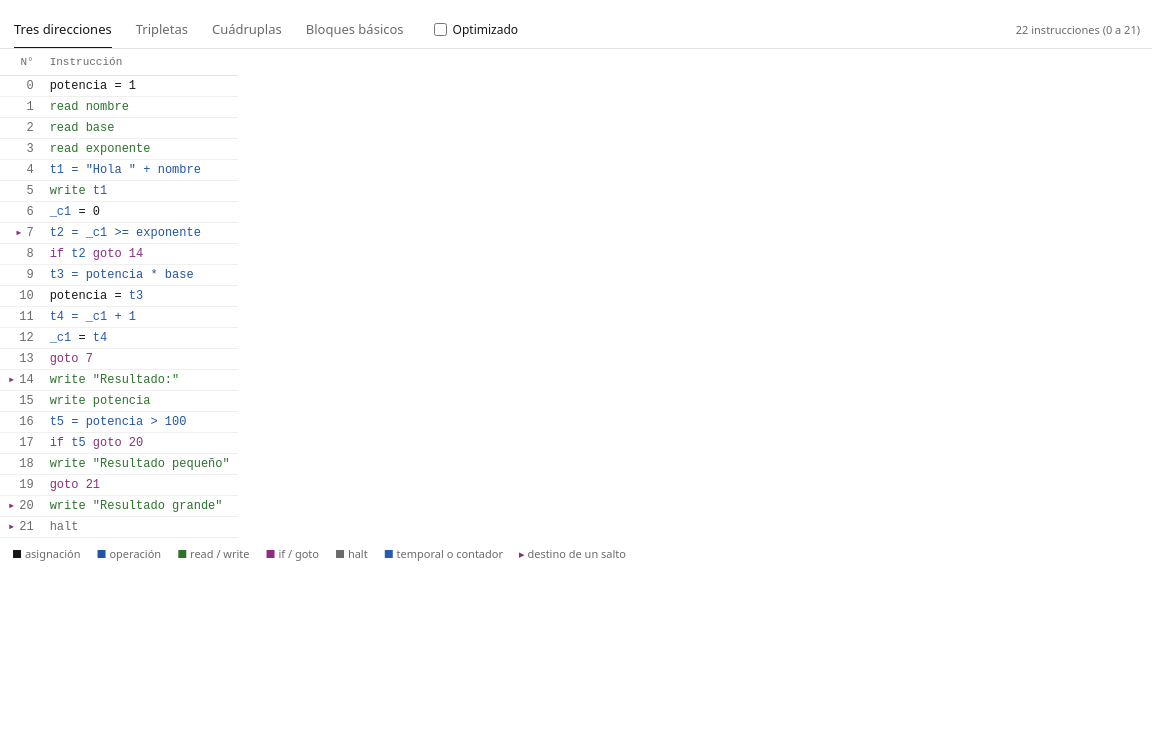
Test: código intermedio optimizado › las tripletas y cuádruplas también cambian con la casilla
Click the tab "Cuádruplas": (247, 30) x1=202 y1=12 x2=292 y2=48
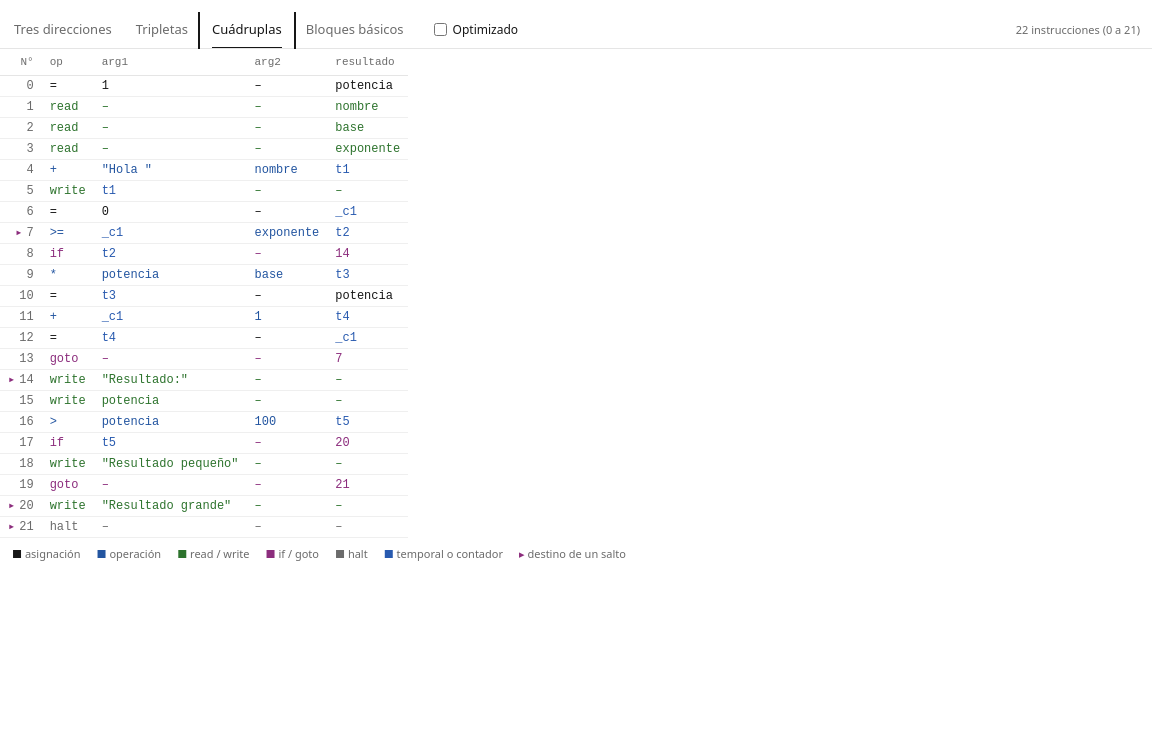
Click the checkbox labelled "Optimizado": (440, 30) x1=434 y1=23 x2=447 y2=36
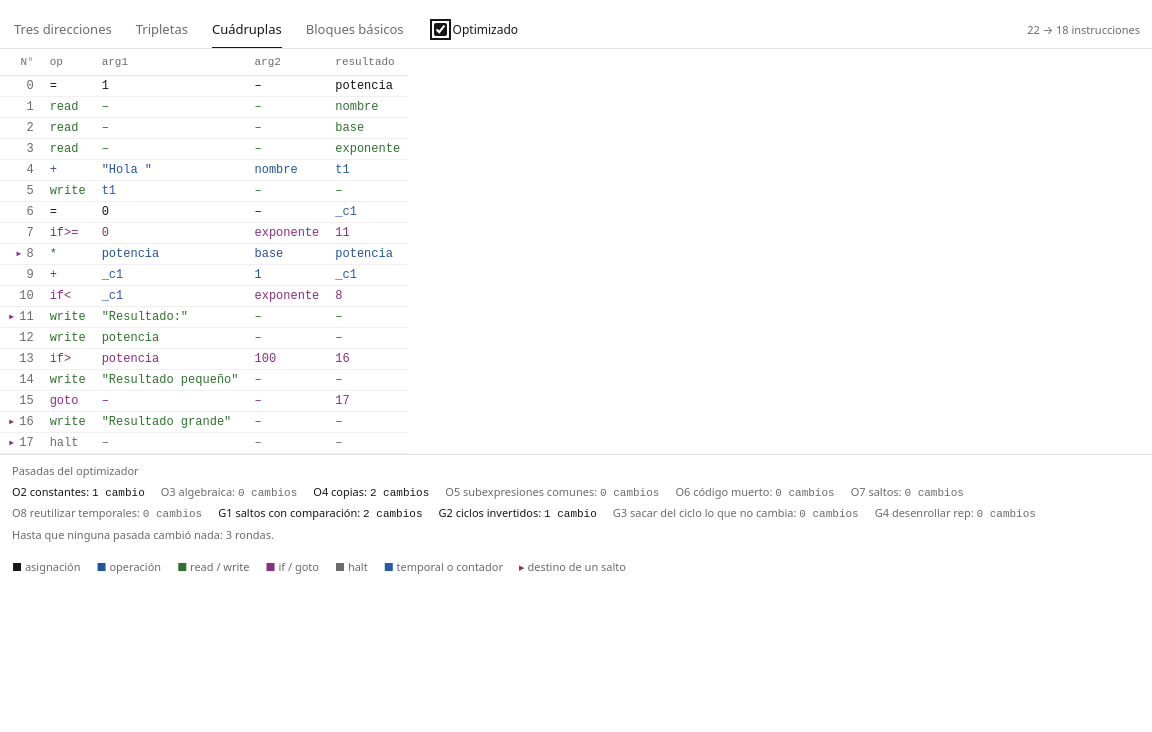
Result: the number of rows is 19
Click the tab "Tripletas": (162, 30) x1=126 y1=12 x2=198 y2=48
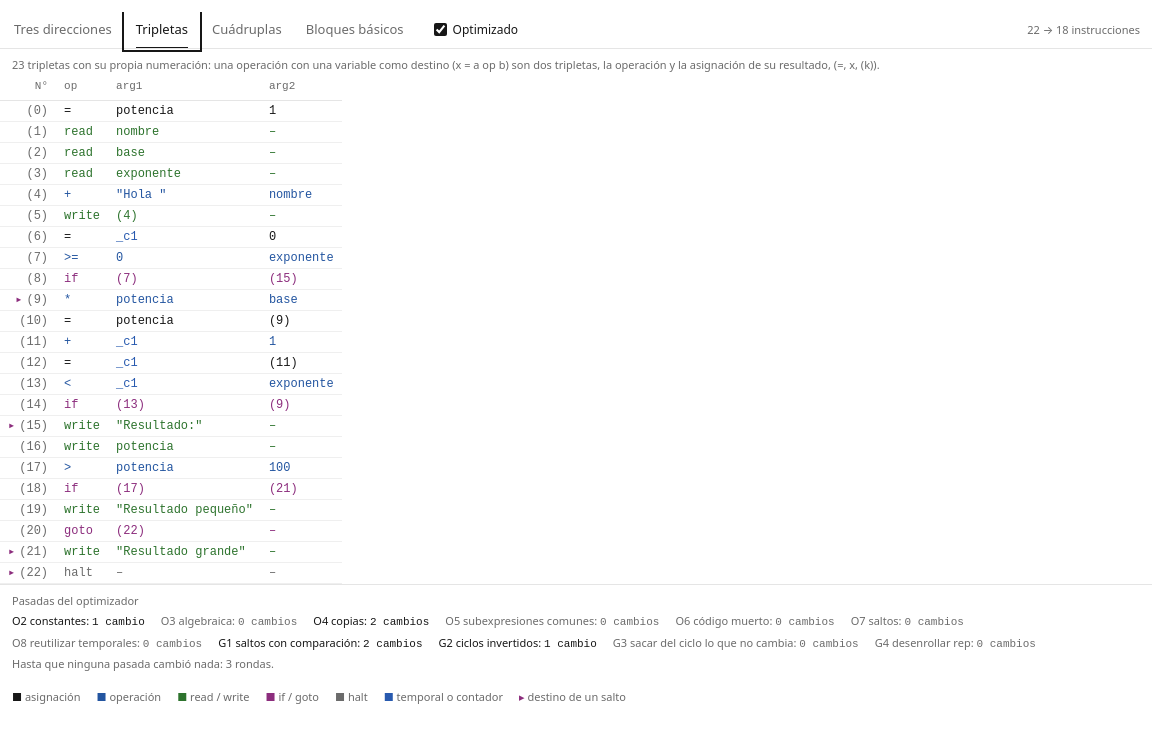
Result: the number of rows is 24
Result: the text "23 tripletas con su propia numeración" is shown at x1=12 y1=56 x2=880 y2=72
